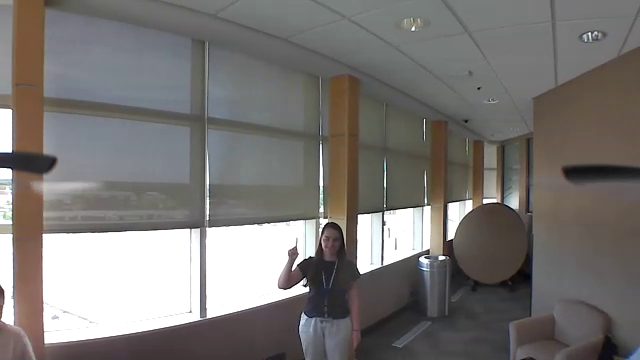up: (286, 235, 300, 262)
